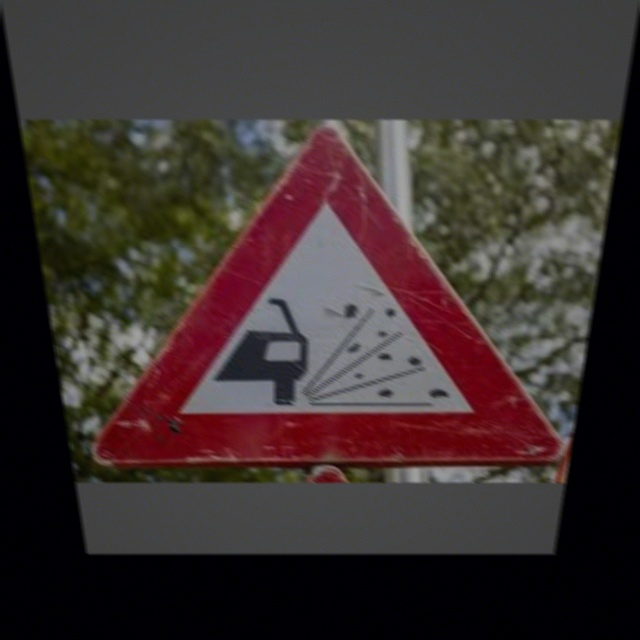Loose_Gravel: (73, 125, 594, 466)
